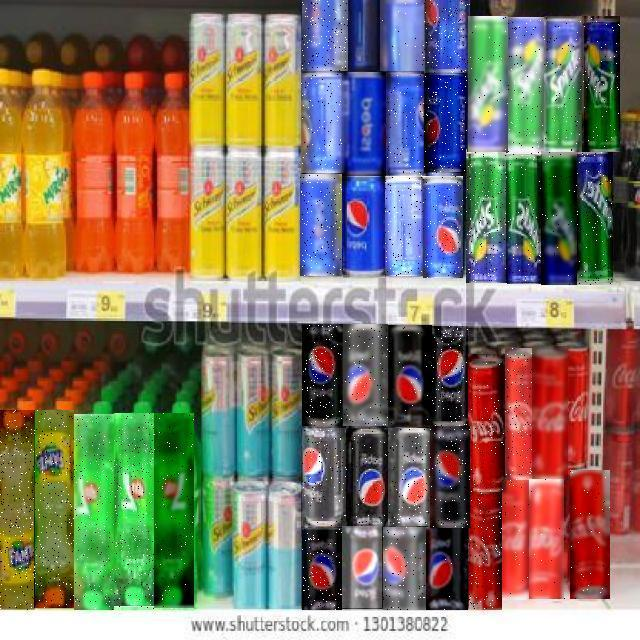Drinks: (35, 410, 75, 608), (75, 415, 115, 611), (155, 414, 195, 610), (114, 414, 154, 610), (0, 410, 35, 610), (469, 17, 509, 153), (544, 16, 584, 152), (468, 354, 506, 492), (466, 152, 506, 283), (508, 18, 546, 154), (582, 17, 620, 153), (570, 470, 610, 599), (576, 152, 613, 285), (532, 346, 568, 480), (541, 152, 577, 285), (506, 153, 542, 284), (386, 325, 432, 427), (343, 325, 388, 427), (342, 72, 386, 176), (424, 74, 467, 176), (302, 428, 346, 527), (530, 479, 566, 599), (388, 428, 432, 526), (301, 73, 344, 173), (301, 175, 343, 277), (343, 176, 385, 278), (302, 325, 344, 427), (346, 428, 388, 527), (386, 74, 426, 177), (423, 176, 463, 278), (430, 426, 470, 528), (469, 492, 502, 610), (430, 327, 468, 429), (385, 176, 423, 276), (505, 348, 533, 481), (383, 527, 426, 610), (426, 527, 468, 610), (424, 0, 470, 74), (502, 480, 530, 600), (303, 528, 343, 610), (343, 527, 383, 609), (303, 0, 349, 71), (380, 0, 425, 71)
